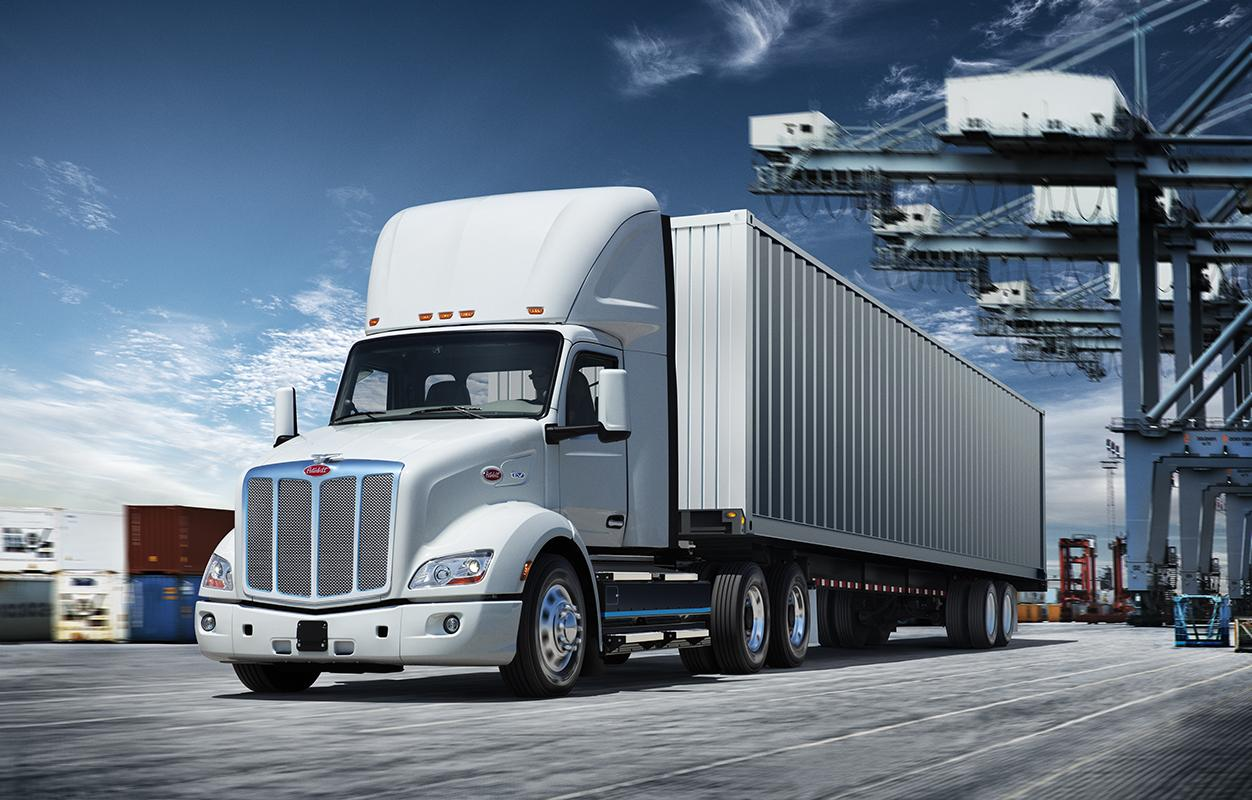truck: (195, 187, 1041, 701)
